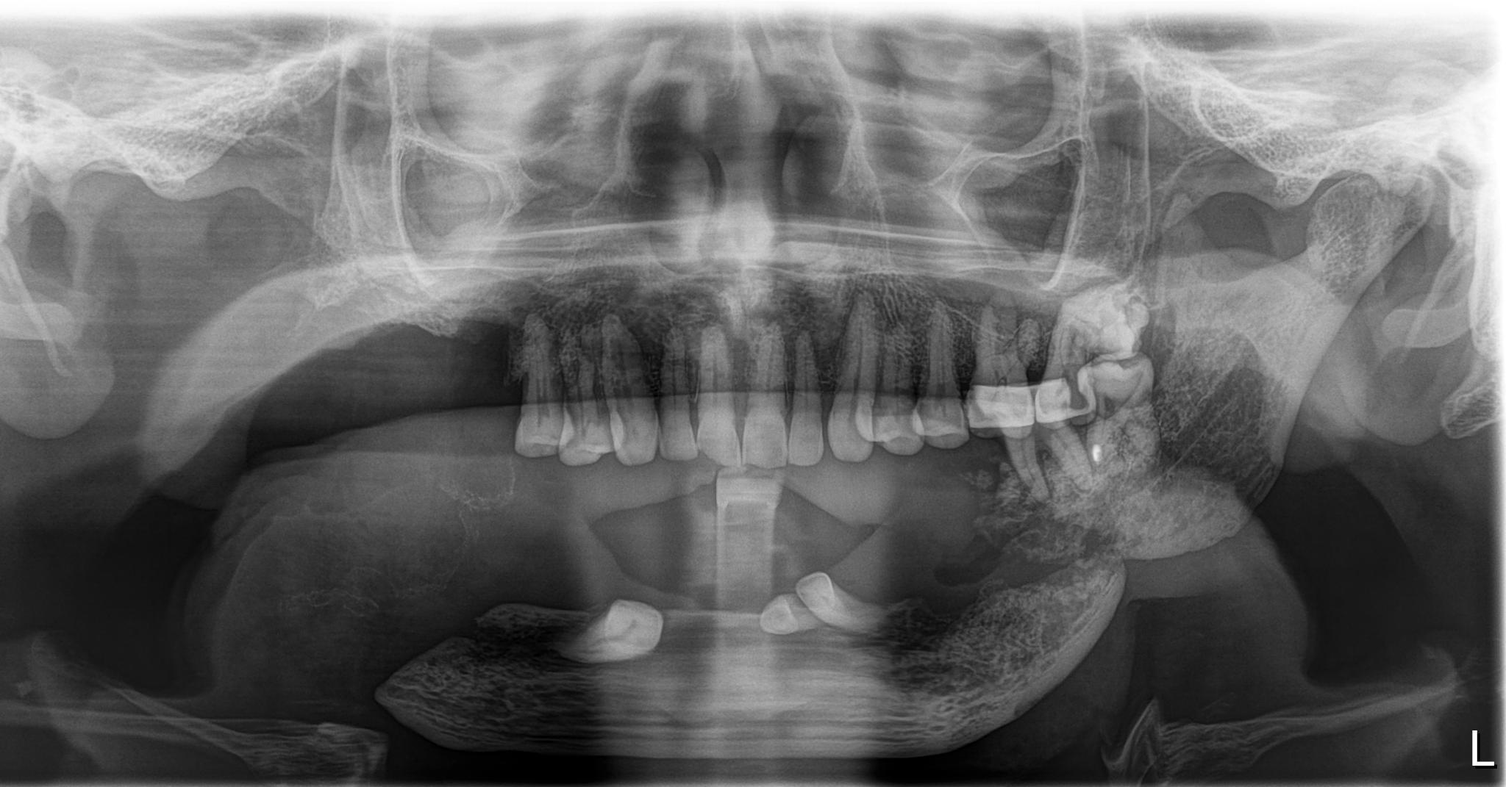Cyst: (1145, 301, 1277, 483)
Dental Caries: (570, 397, 618, 449), (866, 393, 923, 428)
Impacted Third Molar: (1059, 296, 1141, 371)
Periapical Lesion: (1048, 276, 1145, 500)
Periodontal Pocket: (507, 312, 976, 459)
Retained Root: (763, 568, 893, 672), (579, 590, 661, 671)
